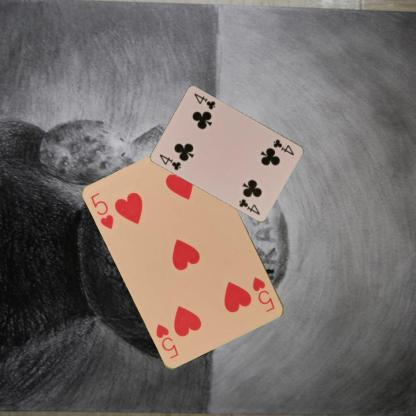4c: (271, 136, 296, 157), (157, 152, 183, 172)
5h: (88, 190, 116, 231), (250, 274, 276, 314)
